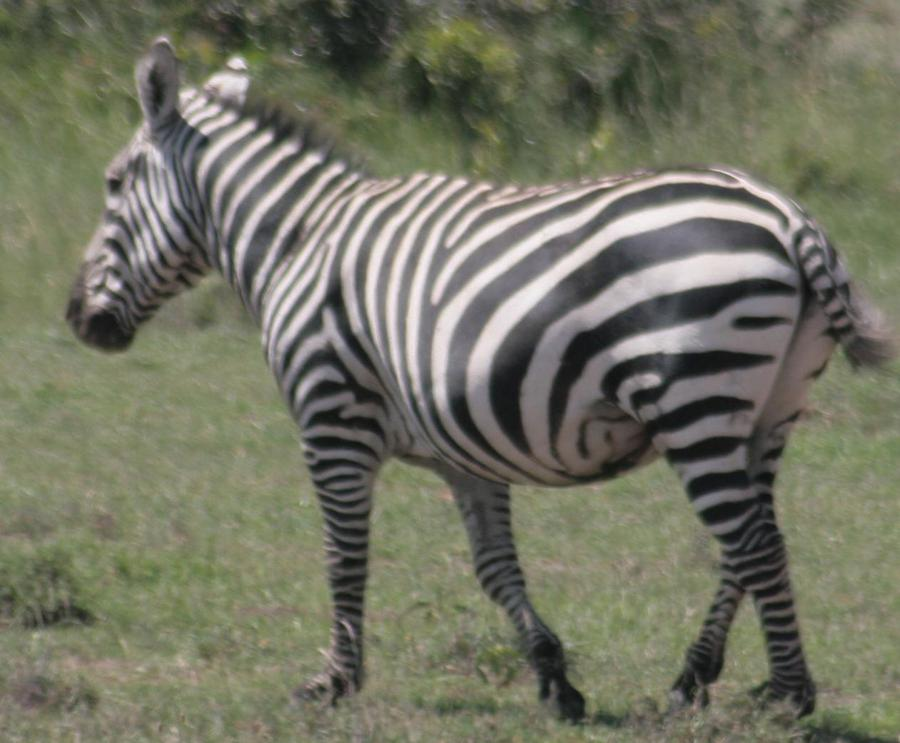zebra_plains: (225, 134, 805, 527)
